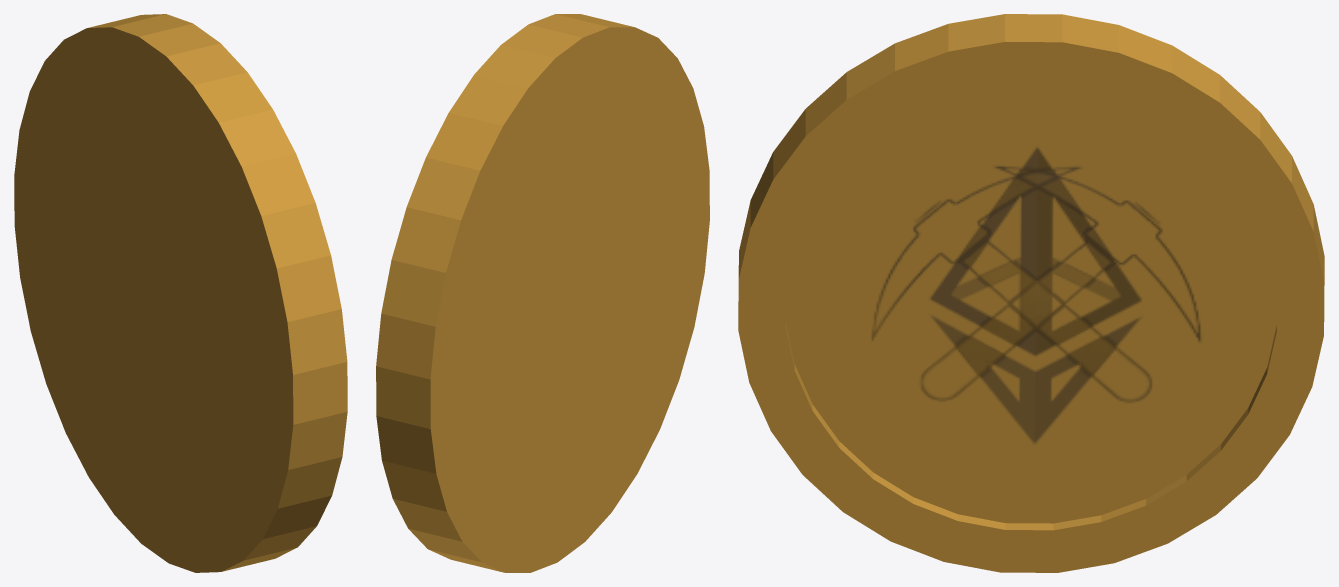
The model's file is coin.glb.
3 renders of one model, left to right at view 1: azimuth 30°, elevation 25°; view 2: azimuth 150°, elevation 25°; view 3: azimuth 270°, elevation 25°, orthographic. The views are drawn at different scales.
Parts seen in each view (by area): view 1: Cylinder; view 2: Cylinder; view 3: Cylinder.
Part boxes in pixels (x1,y1,x2,y2): Cylinder: (14, 14, 347, 572); Cylinder: (376, 14, 709, 572); Cylinder: (738, 14, 1324, 572).
Size of the model in its own units: 0.2241 by 1.99 by 1.99.
1 material, 1 textured.
